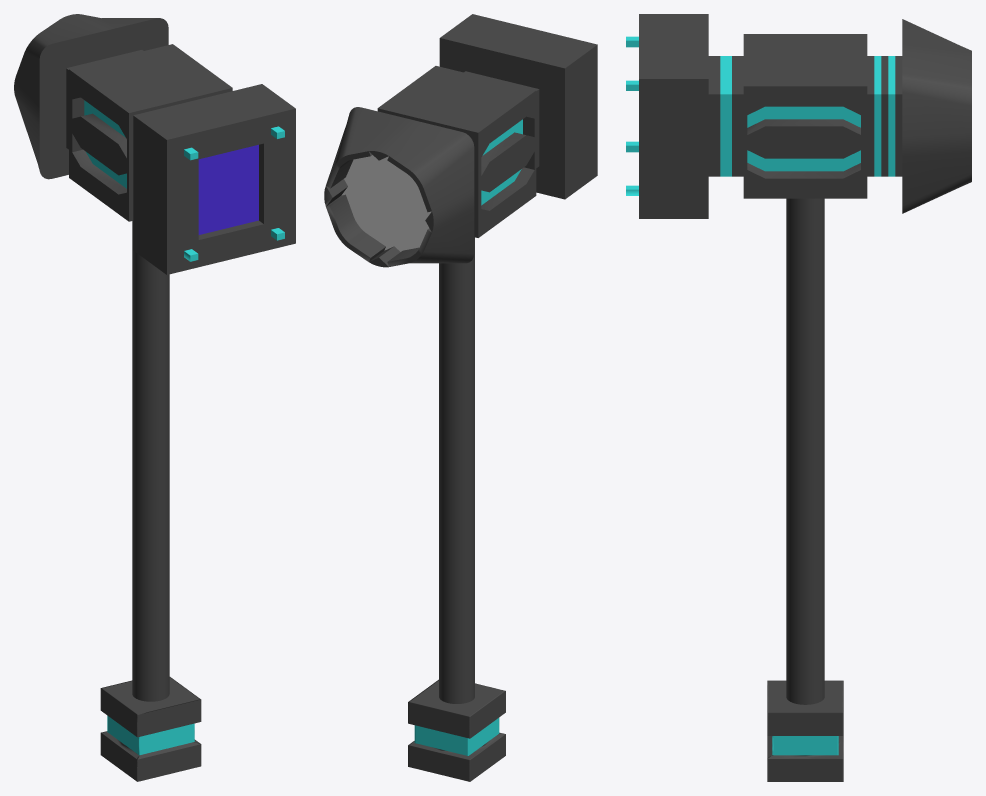
File: Hammer.fbx
3 views of the same model, side by side, from view 1: azimuth 30°, elevation 25°; view 2: azimuth 150°, elevation 25°; view 3: azimuth 270°, elevation 25° (orthographic). The views are drawn at different scales.
Parts seen in each view (by area): view 1: Cube, Cylinder; view 2: Cube, Cylinder; view 3: Cube, Cylinder.
Part boxes in pixels (left/top/right/bottom): Cube: left=14, top=14, right=295, bottom=274; Cylinder: left=100, top=221, right=201, bottom=781; Cube: left=324, top=14, right=597, bottom=267; Cylinder: left=408, top=237, right=505, bottom=781; Cube: left=626, top=14, right=971, bottom=218; Cylinder: left=767, top=198, right=843, bottom=781.
Size of the model in its own units: 319 by 1642 by 716.
